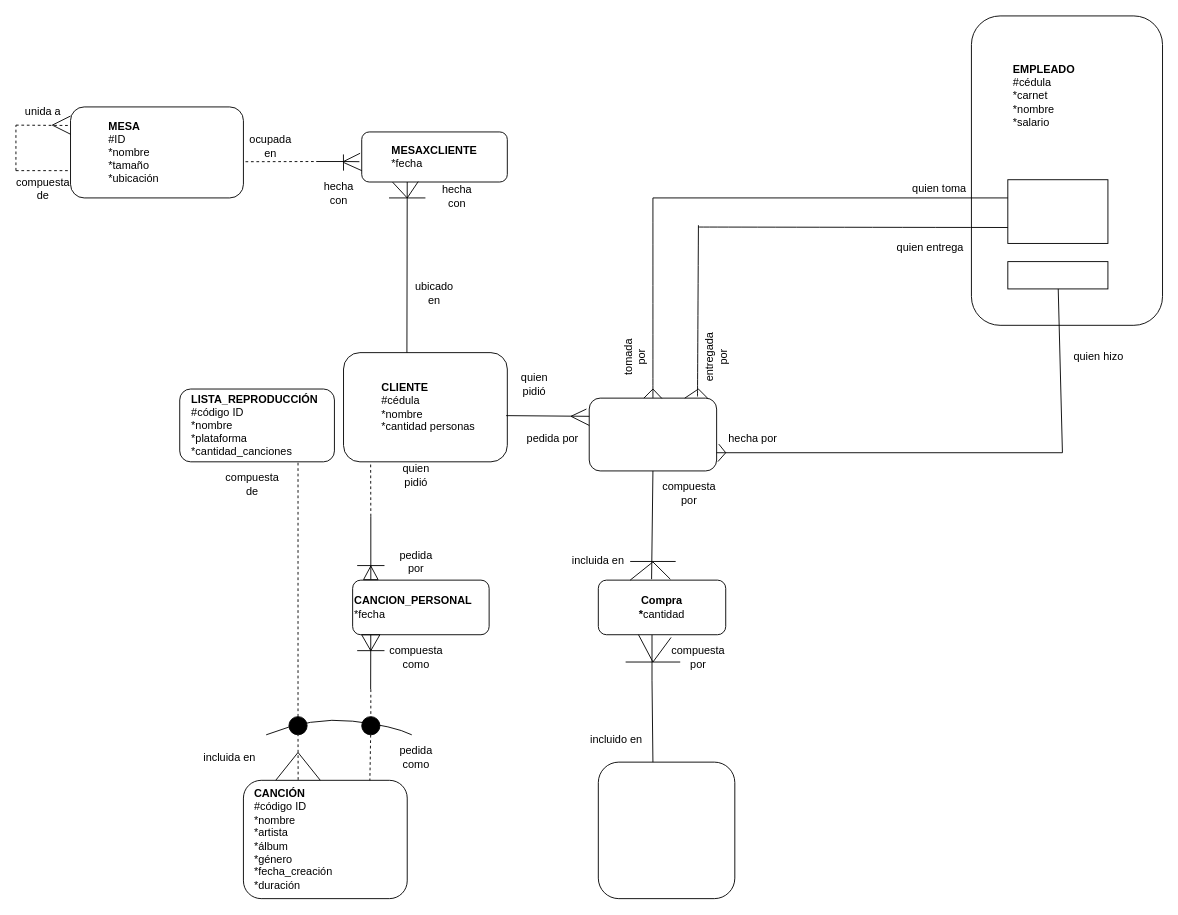
Image size: 1178x915. Some labels were removed from this diagram. Grey dashed boxes stand in for pictures. The shapes that lost their labels are listed below. From the top down, each one's centre as x and y in pixels, then its label:
At (1057,211): "MESERO".
At (1057,275): "BARTENDER".
At (652,434): "ORDEN #código *fecha *precio".
At (666,830): "PRODUCTO #código *nombre *tipo *precio_unitario".
